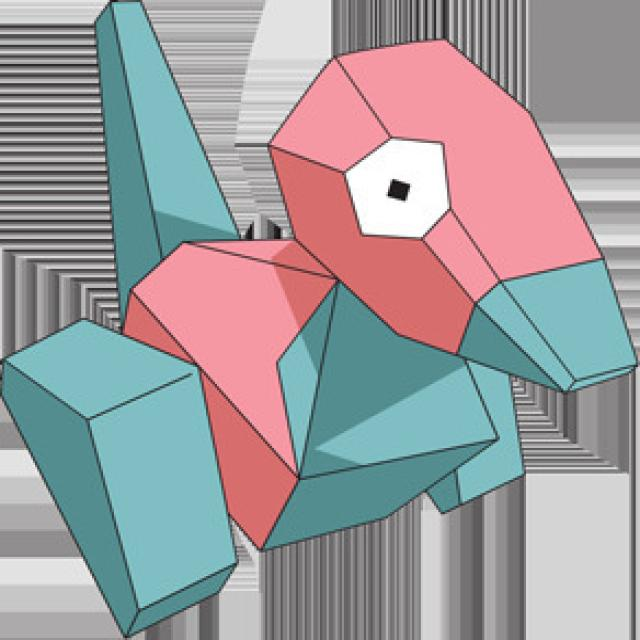Porygon: (56, 39, 575, 538)
